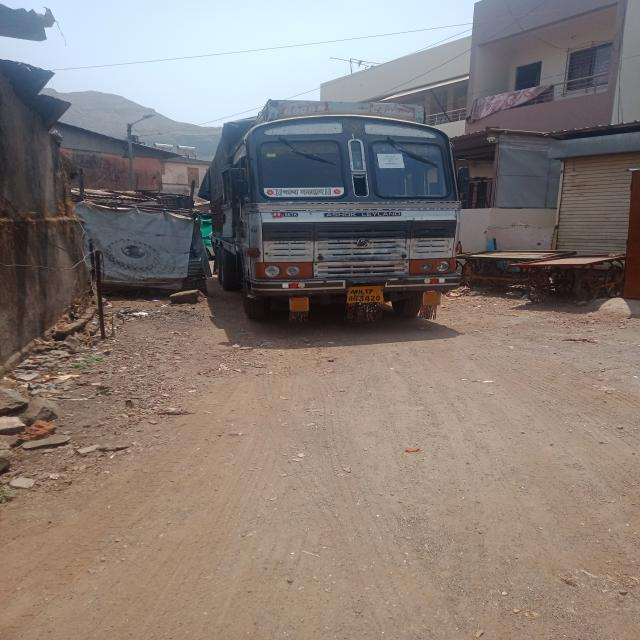Truck: (196, 99, 471, 303)
